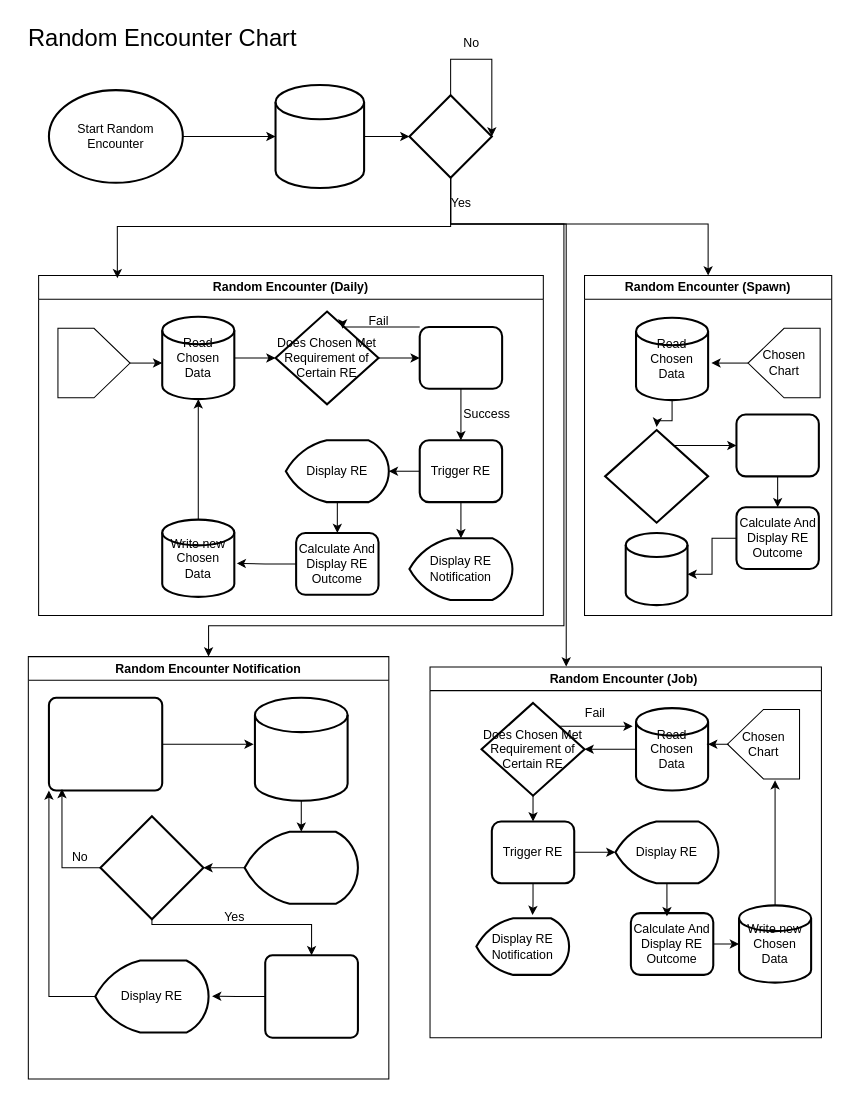
Image size: 850x1097. Some labels were removed from this diagram. Here are the shapes that lost their labels. From the top down, the centre of each, then its label:
[319,135]: Read Database of Available Random Encounter
[450,136]: Is There Atleast One Chosen
[93,362]: Chart Chosen
[460,357]: Randomize Chance Of RE Triggering
[777,445]: Randomize Chance Of Spawn Place
[656,475]: Does Chosen Met Requirement of Spawn Place
[656,568]: Write Chosen Data
[105,743]: Trigger if There's any encounter Happening
[300,748]: Read RE type and Attributes
[151,867]: Did the player click view?
[300,867]: Display Pop Up Notification
[311,996]: Transfer Player to RE Location
